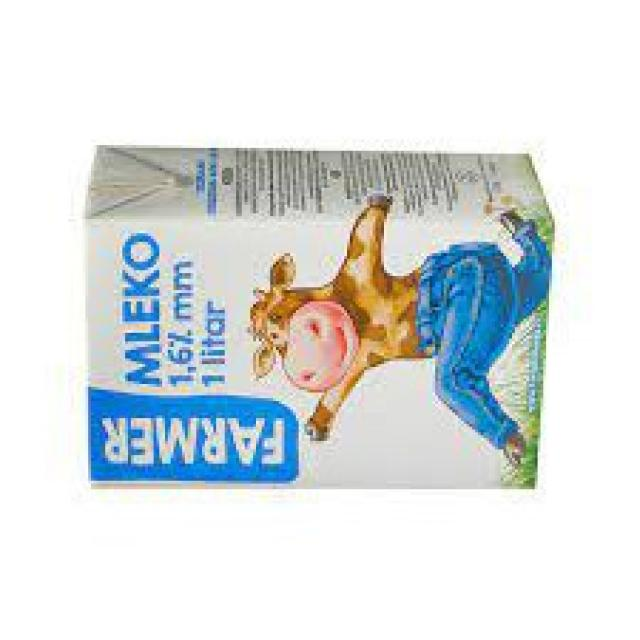non_white_jug: (79, 140, 556, 494)
